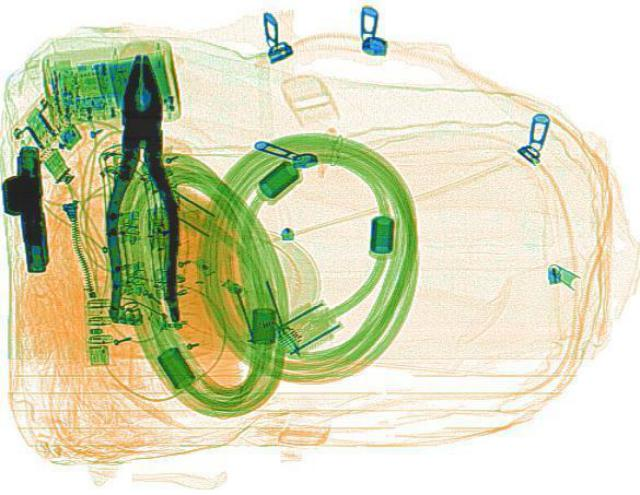Gun: (0, 142, 44, 273)
Pliers: (103, 52, 177, 323)
